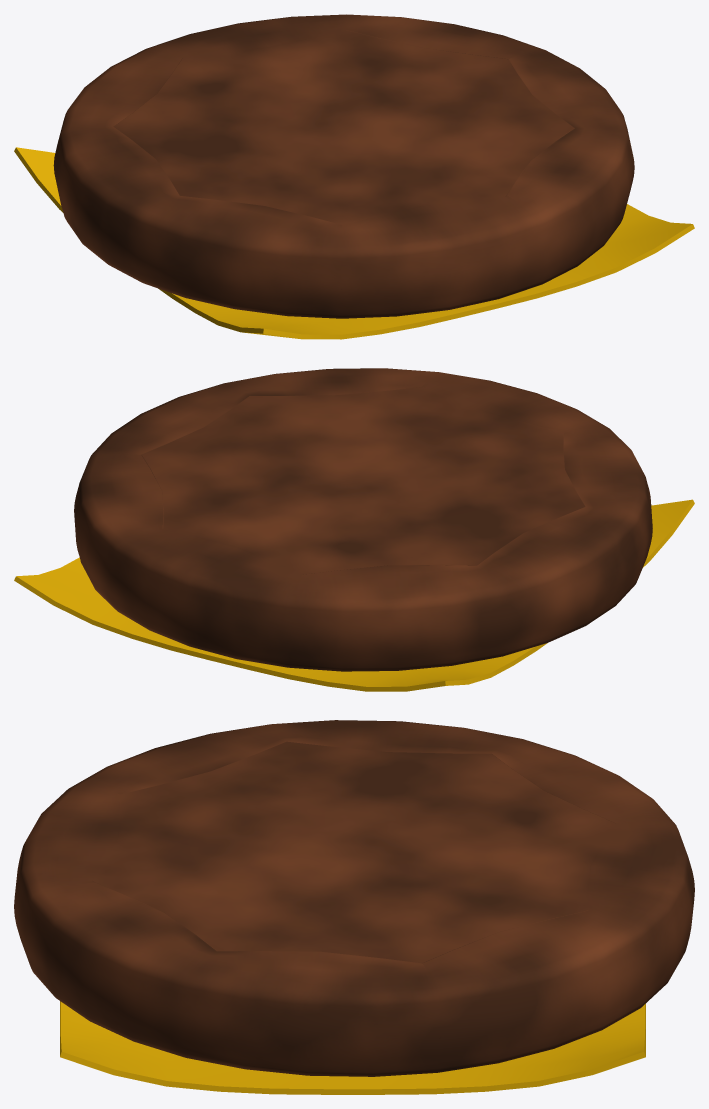
File: cheese-meat.glb
The picture shows the model from 3 angles, top to bottom: view 1: azimuth 30°, elevation 25°; view 2: azimuth 150°, elevation 25°; view 3: azimuth 270°, elevation 25°; orthographic projection. The views are drawn at different scales.
Parts seen in each view (by area): view 1: meat, cheese; view 2: meat, cheese; view 3: meat, cheese.
Boxes of the visible parts, bbox=[...] form: meat: bbox=[53, 14, 634, 318]; cheese: bbox=[14, 147, 694, 339]; meat: bbox=[74, 368, 652, 671]; cheese: bbox=[14, 499, 694, 691]; meat: bbox=[14, 720, 694, 1076]; cheese: bbox=[60, 1001, 645, 1094].
Bounding box in the file's own units: 0.8902 × 0.1848 × 0.8902.
2 materials, 1 textured.
